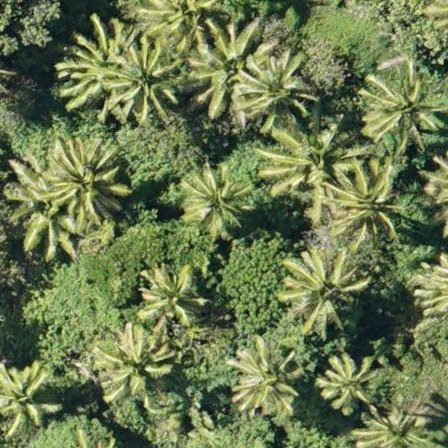palm_tree: (41, 141, 125, 223), (263, 129, 340, 204), (239, 54, 315, 123), (365, 75, 435, 148), (101, 327, 170, 401), (106, 45, 177, 116), (180, 166, 249, 237), (230, 349, 297, 421), (289, 253, 355, 323), (334, 162, 398, 233), (137, 265, 205, 331), (143, 1, 223, 45), (319, 354, 376, 413), (1, 362, 50, 424), (359, 399, 420, 448)
